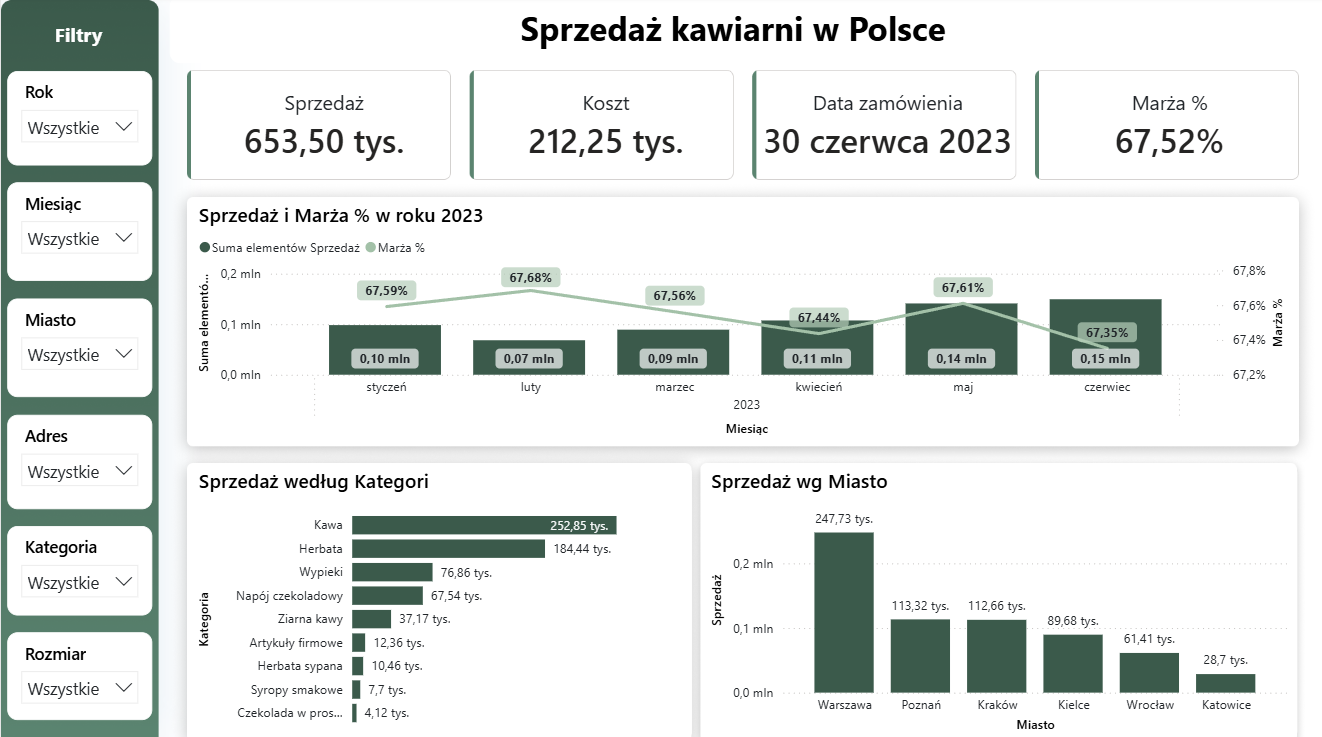

The dashboard page shown, as its layout file describes it:
{"tool":"powerbi","page":{"name":"Strona 1","canvas":[1280,720],"ordinal":0},"visuals":[{"type":"cardVisual","fields":{"Data":["Sum(Sprzedaz.Sprzedaż)","Sum(Sprzedaz.Koszt)","Max(Sprzedaz.Data zamówienia)","Sprzedaz.Marża %"]},"box":[163,64.9,1116.7,118.3],"z":0},{"type":"lineClusteredColumnComboChart","title":"Sprzedaż i Marża % w roku 2023","fields":{"Y":["Sum(Sprzedaz.Sprzedaż)"],"Y2":["Sprzedaz.Marża %"],"Category":["Kalendarz.Date.Odmiana.Hierarchia dat.Rok","Kalendarz.Date.Odmiana.Hierarchia dat.Miesiąc"]},"box":[181.8,194.8,1069.1,239.5],"z":1000},{"type":"barChart","title":"Sprzedaż według Kategori","fields":{"Category":["Tabela produktowa (Produkty).Kategoria"],"Y":["Sum(Sprzedaz.Sprzedaż)"]},"box":[181.8,451.6,484.8,268.4],"z":2000},{"type":"clusteredColumnChart","fields":{"Category":["Sklepy.Miasto"],"Y":["Sum(Sprzedaz.Sprzedaż)"]},"box":[676.7,451.6,574.2,268.4],"z":3000},{"type":"textbox","box":[163,0,1087.8,64.9],"z":4000},{"type":"slicer","fields":{"Values":["Kalendarz.Rok"]},"box":[5.8,72.1,139.9,90.9],"z":5000},{"type":"slicer","fields":{"Values":["Kalendarz.Miesiąc"]},"box":[5.8,179.8,139.9,95.2],"z":6000},{"type":"slicer","fields":{"Values":["Sklepy.Miasto"]},"box":[5.8,291.7,139.9,95.2],"z":7000},{"type":"slicer","fields":{"Values":["Sklepy.Adres"]},"box":[5.8,403.7,139.9,90.9],"z":8000},{"type":"slicer","fields":{"Values":["Tabela produktowa (Produkty).Kategoria"]},"box":[5.8,511.3,139.9,86.6],"z":9000},{"type":"slicer","fields":{"Values":["Tabela produktowa (Produkty).Rozmiar"]},"box":[5.8,614.6,139.9,85.1],"z":10000},{"type":"textbox","box":[26,18.8,96.7,46.2],"z":11000}]}

Visuals, with their boxes in screenshot pixels (x1, y1, x2, y2), scaled from the page's 1280x720 canvas onto the 1322x737 screenshot:
cardVisual - Sum(Sprzedaz.Sprzedaż) x Sum(Sprzedaz.Koszt): detection(168, 66, 1321, 188)
"Sprzedaż i Marża % w roku 2023" lineClusteredColumnComboChart: detection(188, 199, 1292, 445)
"Sprzedaż według Kategori" barChart: detection(188, 462, 688, 736)
clusteredColumnChart - Sklepy.Miasto x Sum(Sprzedaz.Sprzedaż): detection(699, 462, 1292, 736)
textbox: detection(168, 0, 1292, 66)
slicer - Kalendarz.Rok: detection(6, 74, 150, 167)
slicer - Kalendarz.Miesiąc: detection(6, 184, 150, 281)
slicer - Sklepy.Miasto: detection(6, 299, 150, 396)
slicer - Sklepy.Adres: detection(6, 413, 150, 506)
slicer - Tabela produktowa (Produkty).Kategoria: detection(6, 523, 150, 612)
slicer - Tabela produktowa (Produkty).Rozmiar: detection(6, 629, 150, 716)
textbox: detection(27, 19, 127, 67)
